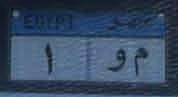1: (43, 42, 55, 74)
meem: (129, 47, 151, 77)
waw: (106, 48, 128, 73)
